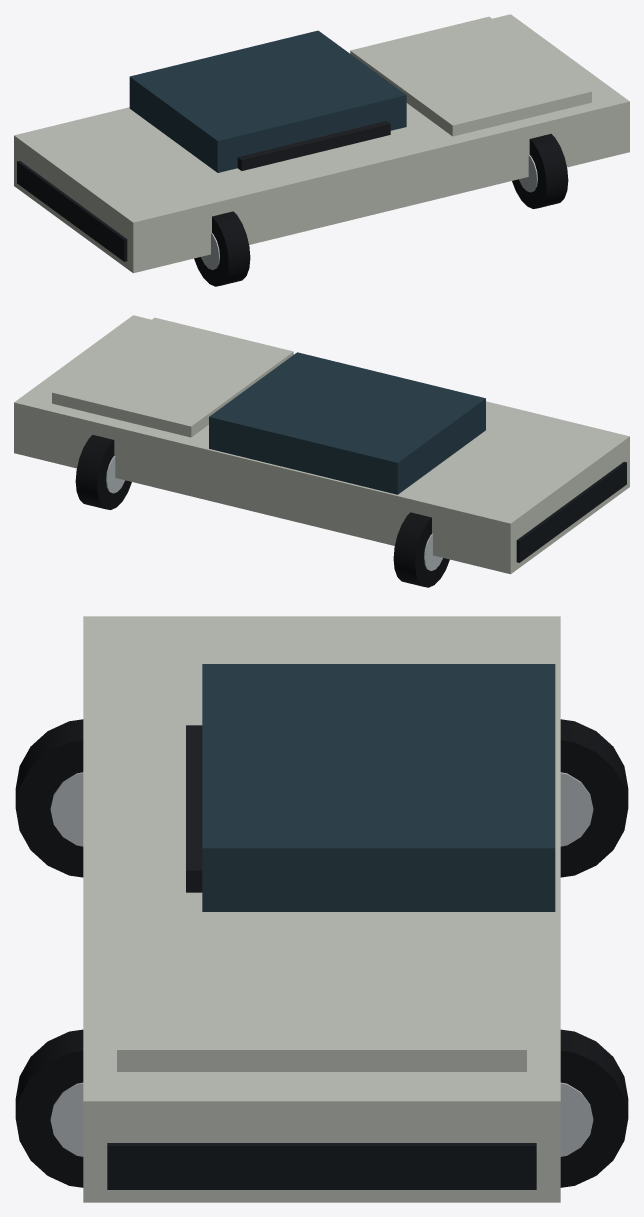
File: lambo_fenomeno_roadster.glb
The picture shows the model from 3 angles, top to bottom: view 1: azimuth 30°, elevation 25°; view 2: azimuth 150°, elevation 25°; view 3: azimuth 270°, elevation 25°; orthographic projection. The views are drawn at different scales.
Visible parts, largest first — view 1: body, cabin, hood, front_right_wheel, rear_right_wheel, rear_bumper, interior; view 2: body, cabin, hood, front_left_wheel, rear_left_wheel, rear_bumper; view 3: body, cabin, hood, front_bumper, front_left_wheel, front_right_wheel, rear_left_wheel, rear_right_wheel, interior.
Boxes of the visible parts, bbox=[...] form: body: bbox=[14, 14, 629, 273]; cabin: bbox=[129, 30, 406, 172]; hood: bbox=[350, 16, 591, 136]; front_right_wheel: bbox=[512, 133, 568, 208]; rear_right_wheel: bbox=[194, 211, 250, 286]; rear_bumper: bbox=[17, 160, 127, 261]; interior: bbox=[237, 121, 390, 170]; body: bbox=[14, 315, 629, 574]; cabin: bbox=[209, 352, 485, 494]; hood: bbox=[52, 317, 293, 437]; front_left_wheel: bbox=[75, 434, 131, 509]; rear_left_wheel: bbox=[393, 512, 449, 587]; rear_bumper: bbox=[516, 461, 626, 562]; body: bbox=[83, 616, 560, 1202]; cabin: bbox=[202, 664, 555, 911]; hood: bbox=[117, 914, 526, 1071]; front_bumper: bbox=[107, 1143, 536, 1189]; front_left_wheel: bbox=[560, 1029, 628, 1187]; front_right_wheel: bbox=[15, 1029, 83, 1187]; rear_left_wheel: bbox=[560, 719, 628, 877]; rear_right_wheel: bbox=[15, 719, 83, 877]; interior: bbox=[186, 725, 202, 892].
Size of the model in its own units: 5.11 by 1.11 by 2.7.
